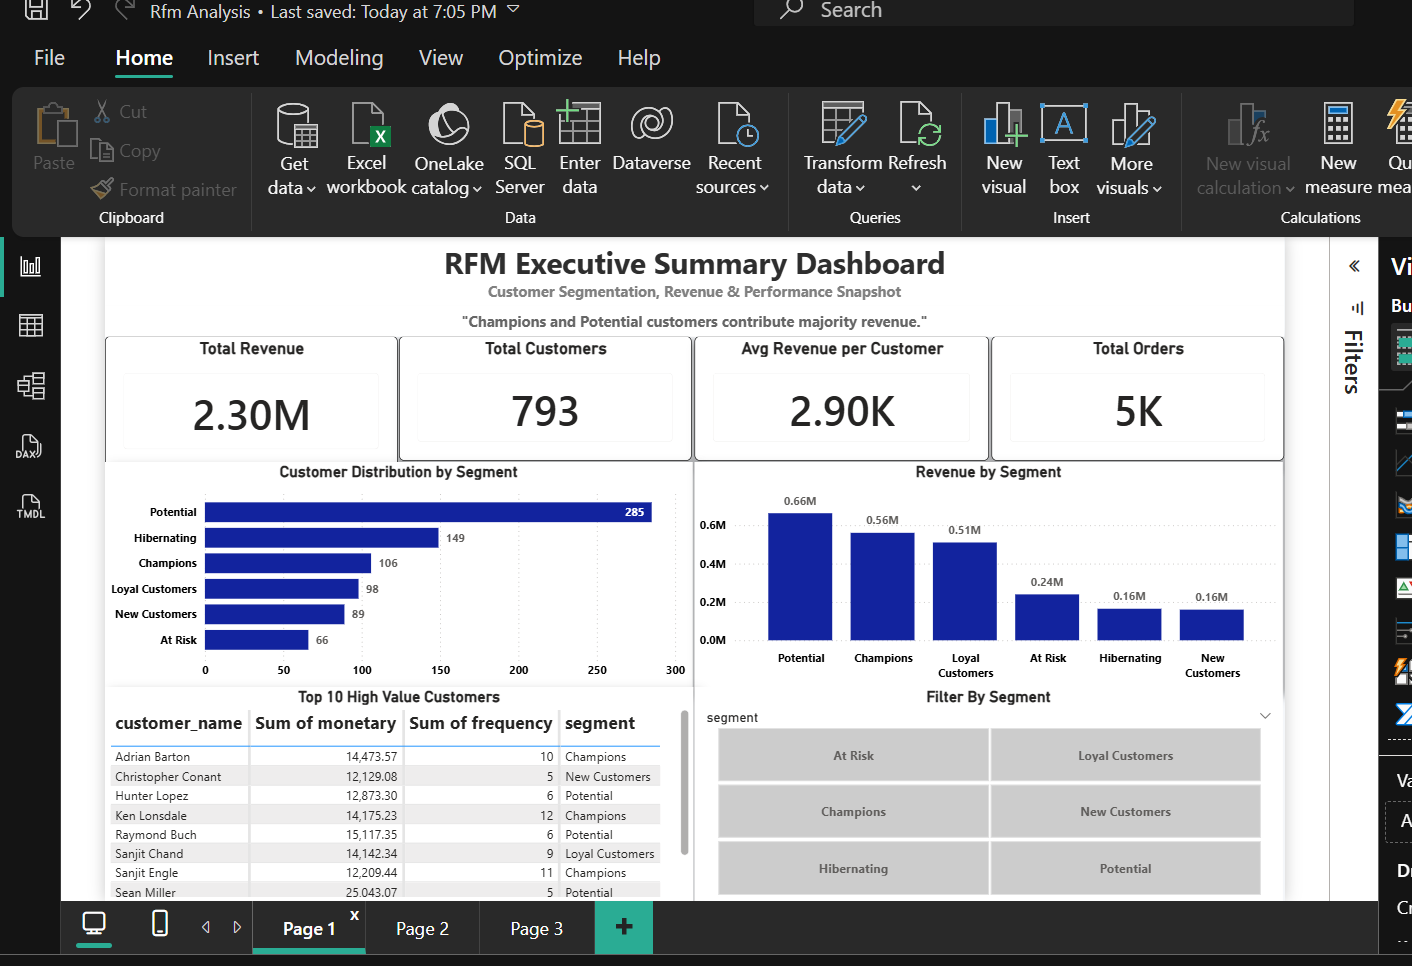

The page's visual inventory and layout, read from the dashboard file:
{"tool":"powerbi","page":{"name":"Page 1","canvas":[1280,720],"ordinal":0},"visuals":[{"type":"cardVisual","title":"Total Revenue","fields":{"Data":["Sum(rfm_results.monetary)"]},"box":[0,107.8,317.6,143.1],"z":0},{"type":"cardVisual","title":"Total Customers","fields":{"Data":["Count(rfm_results.customer_id)"]},"box":[319.6,107.8,317.6,135.3],"z":1000},{"type":"cardVisual","title":"Avg Revenue per Customer","fields":{"Data":["rfm_results.Avg Revenue"]},"box":[639.2,107.8,319.6,135.3],"z":2000},{"type":"cardVisual","title":"Total Orders","fields":{"Data":["Sum(rfm_results.frequency)"]},"box":[960.8,107.8,317.6,135.3],"z":3000},{"type":"clusteredBarChart","title":"Customer Distribution by Segment","fields":{"Category":["rfm_results.segment"],"Y":["Count(rfm_results.customer_id)"]},"box":[0,244,637,244],"z":4000},{"type":"clusteredColumnChart","title":"Revenue by Segment","fields":{"Category":["rfm_results.segment"],"Y":["Sum(rfm_results.monetary)"]},"box":[640,244,638,244],"z":5000},{"type":"tableEx","title":"Top 10 High Value Customers","fields":{"Values":["rfm_results.customer_name","Sum(rfm_results.monetary)","Sum(rfm_results.frequency)","rfm_results.segment"]},"box":[0,488,638,232],"z":6000},{"type":"textbox","box":[0,0,1278.4,74.5],"z":7000},{"type":"textbox","box":[0,74.5,1278.4,33.3],"z":8000},{"type":"slicer","title":"Filter By Segment","fields":{"Values":["rfm_results.segment"]},"box":[640,488,638,232],"z":9000}]}

Visuals, with their boxes on the page's 1280x720 design canvas (x1, y1, x2, y2). These are canvas units, not pixel positions in the 1412x966 screenshot, which may show the page scaled, cropped or inside an application window:
"Total Revenue" cardVisual: l=0, t=108, r=318, b=251
"Total Customers" cardVisual: l=320, t=108, r=637, b=243
"Avg Revenue per Customer" cardVisual: l=639, t=108, r=959, b=243
"Total Orders" cardVisual: l=961, t=108, r=1278, b=243
"Customer Distribution by Segment" clusteredBarChart: l=0, t=244, r=637, b=488
"Revenue by Segment" clusteredColumnChart: l=640, t=244, r=1278, b=488
"Top 10 High Value Customers" tableEx: l=0, t=488, r=638, b=720
textbox: l=0, t=0, r=1278, b=74
textbox: l=0, t=74, r=1278, b=108
"Filter By Segment" slicer: l=640, t=488, r=1278, b=720
